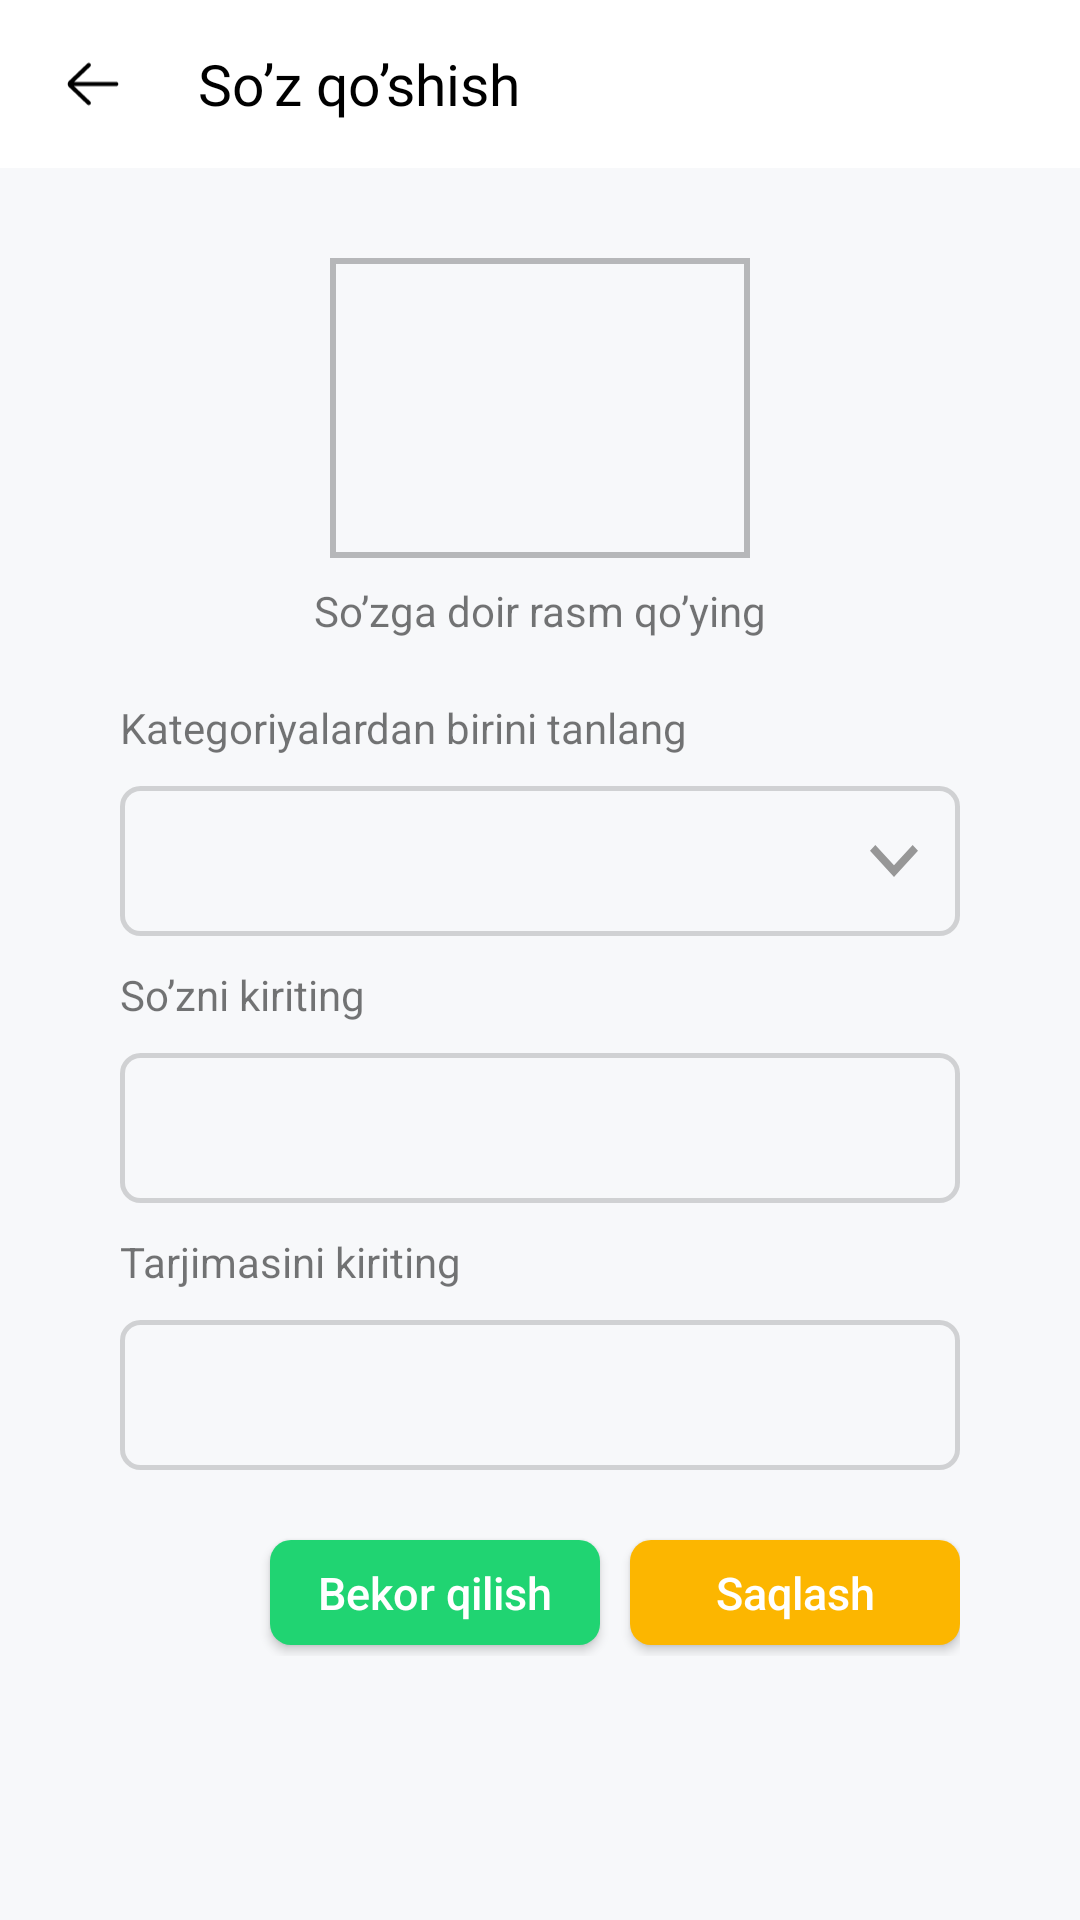

Screen size 1080*1920. Icon name, then its center in pixels as (x=x, y=y):
back: (x=93, y=84)
